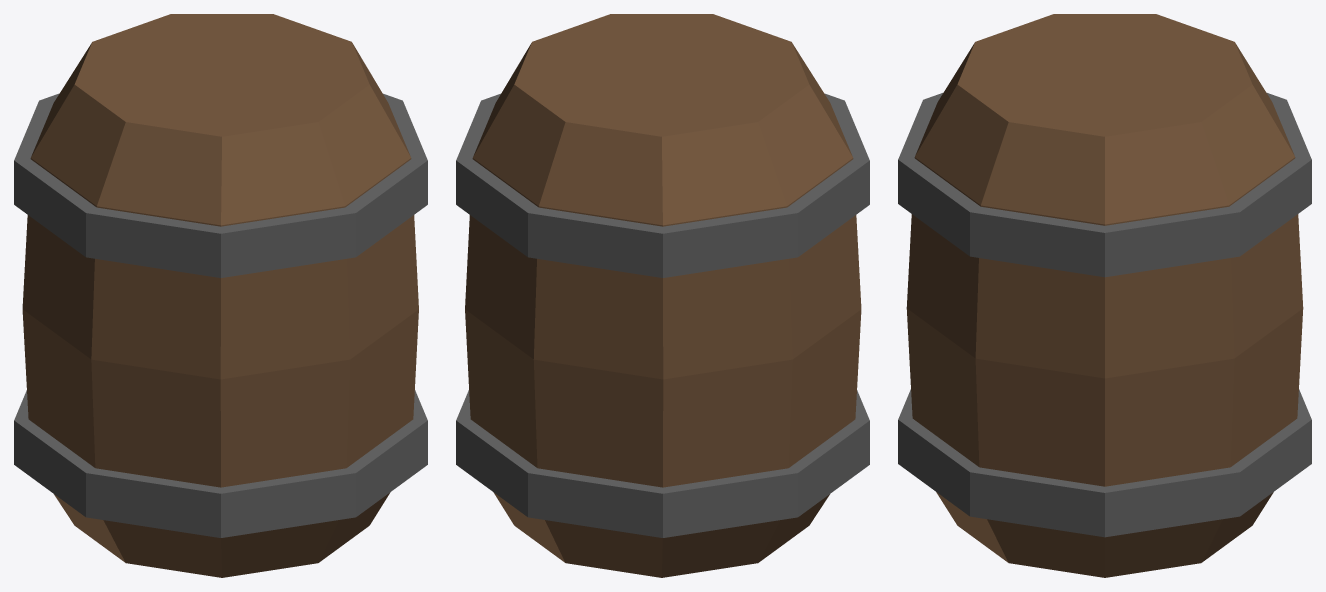
The model's file is barrel.fbx.
The picture shows the model from 3 angles, left to right: view 1: azimuth 30°, elevation 25°; view 2: azimuth 150°, elevation 25°; view 3: azimuth 270°, elevation 25°; orthographic projection.
Visible parts, largest first — view 1: barrel; view 2: barrel; view 3: barrel.
Part boxes in pixels (x1=…): barrel: x1=14, y1=14, x2=427, y2=577; barrel: x1=456, y1=14, x2=869, y2=577; barrel: x1=898, y1=14, x2=1311, y2=577.
Size of the model in its own units: 364 by 435 by 370.
